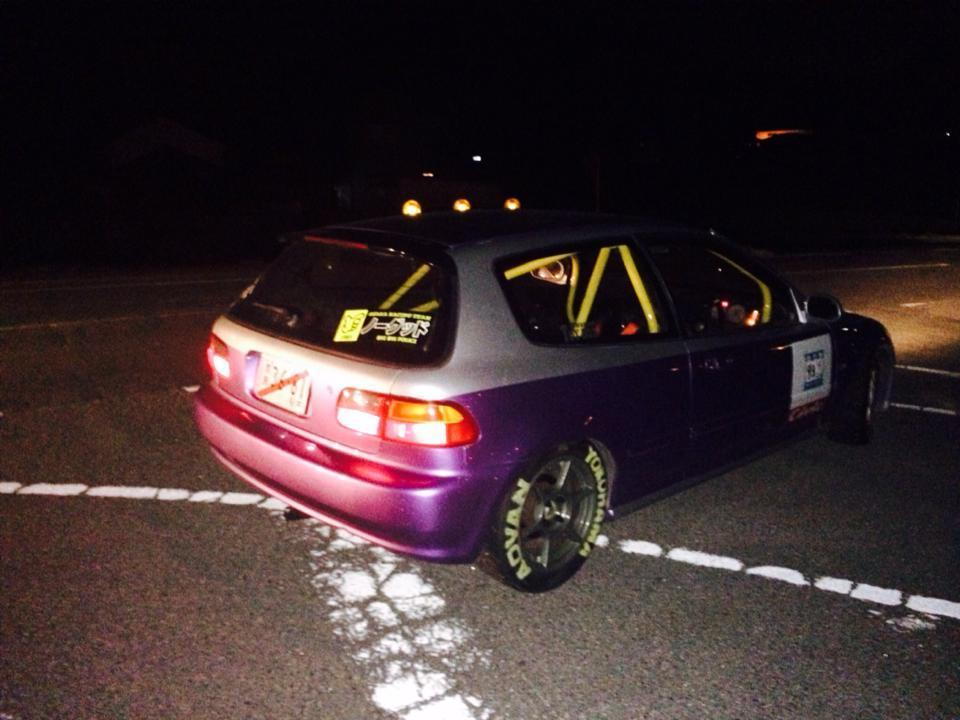bienso: (249, 338, 319, 420)
